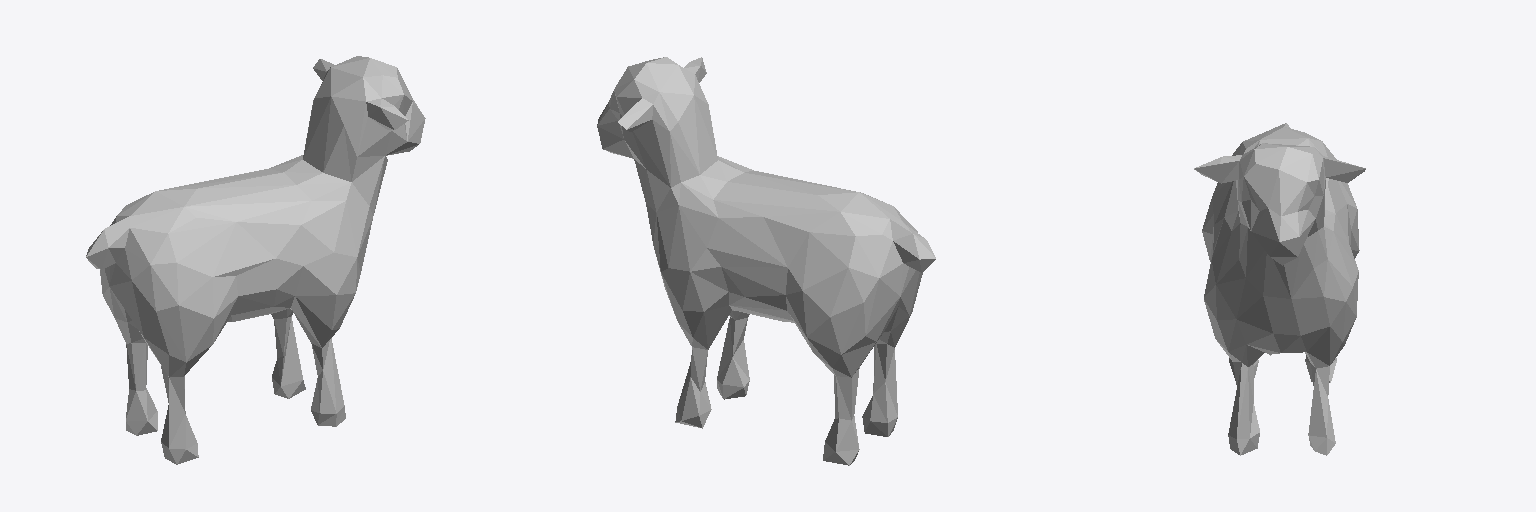
Rendered from Lamb.obj.
The picture shows the model from 3 angles: view 1: azimuth 30°, elevation 25°; view 2: azimuth 150°, elevation 25°; view 3: azimuth 270°, elevation 25°; orthographic projection.
Visible parts, largest first — view 1: high_poly; view 2: high_poly; view 3: high_poly.
Boxes of the visible parts, box(x1,y1,x2,y2) form: high_poly: box(86, 56, 425, 464); high_poly: box(597, 57, 935, 465); high_poly: box(1194, 123, 1365, 455).
Size of the model in its own units: 1.01 by 0.951 by 0.4478.